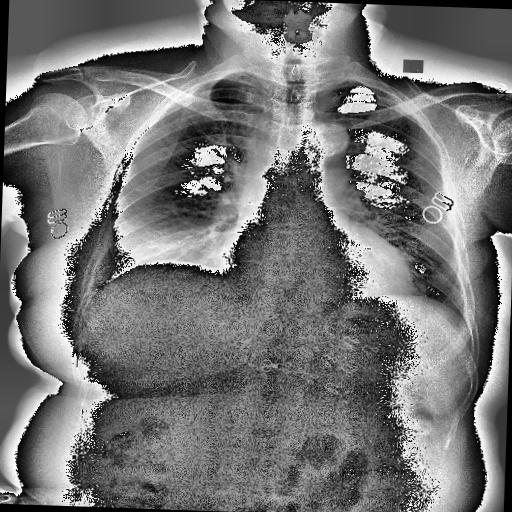0- Aortic enlargement: (300, 117, 348, 159), (297, 122, 348, 152), (308, 120, 350, 156)
3- Cardiomegaly: (217, 228, 415, 294), (215, 241, 414, 305), (216, 244, 416, 298)
